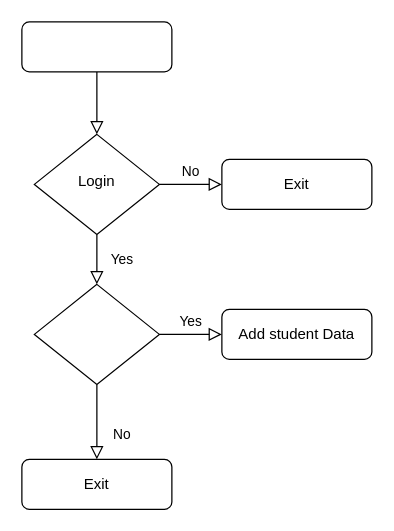
Some shapes in this 394 by 531 pixel diagram are drawn without their labels. The shapes that lost their labels are listed below. From the top down, each one's centre as x and y in pixels, then its label:
the point at 96,46: Admin
the point at 96,333: Enrole Student
